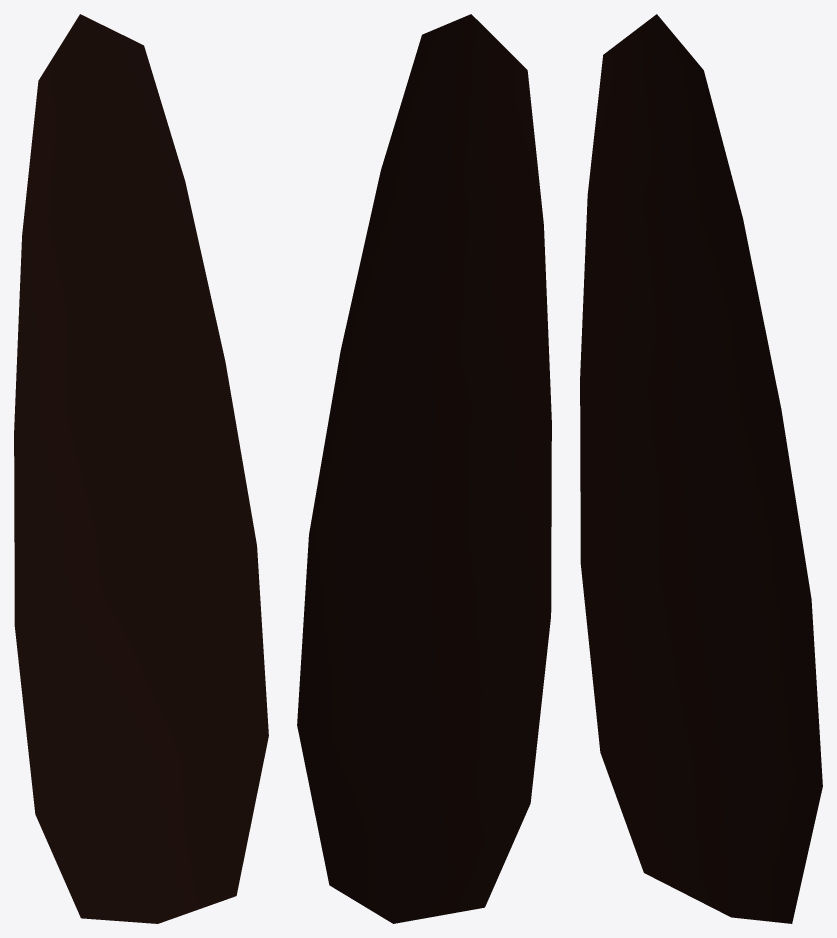
Rendered from finch_feather_flight_secondary_023.obj.
3 views of the same model, side by side, from view 1: azimuth 30°, elevation 25°; view 2: azimuth 150°, elevation 25°; view 3: azimuth 330°, elevation 25° (orthographic). The views are drawn at different scales.
Visible parts, largest first — view 1: feather_flight_secondary_023; view 2: feather_flight_secondary_023; view 3: feather_flight_secondary_023.
Boxes of the visible parts, x1,y1,x2,y2 form: feather_flight_secondary_023: [14, 14, 268, 923]; feather_flight_secondary_023: [297, 14, 551, 923]; feather_flight_secondary_023: [580, 14, 822, 923].
Bounding box in the file's own units: 0.00676 × 0.0235 × 0.00034.
